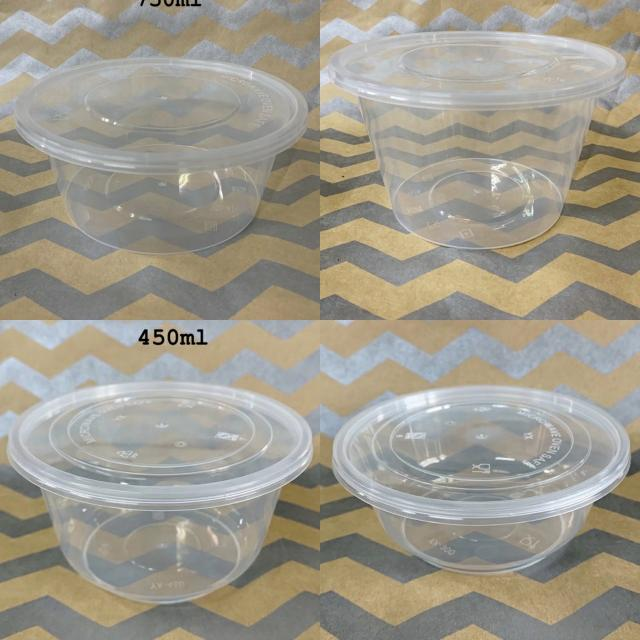Single-Use-Plastic: (8, 381, 312, 604), (329, 31, 625, 248), (14, 58, 308, 254), (334, 386, 630, 574)
